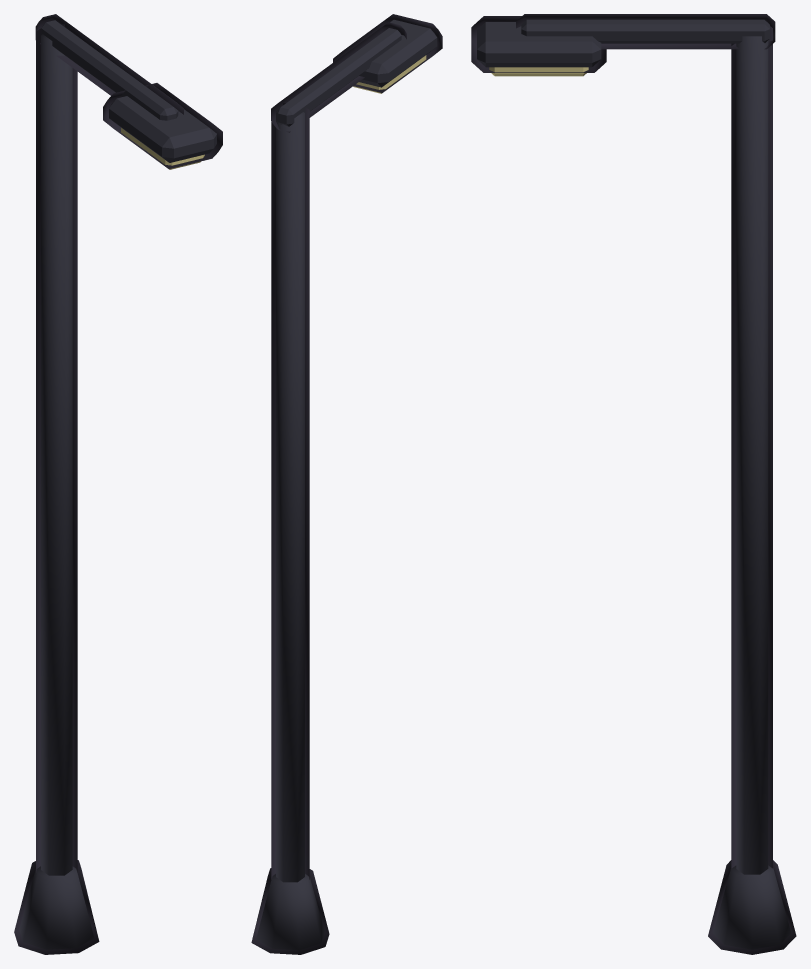
Rendered from street_lamp.glb.
3 views of the same model, side by side, from view 1: azimuth 30°, elevation 25°; view 2: azimuth 150°, elevation 25°; view 3: azimuth 270°, elevation 25° (orthographic). The views are drawn at different scales.
Parts seen in each view (by area): view 1: street_lamp; view 2: street_lamp; view 3: street_lamp.
Part boxes in pixels (x1,y1,x2,y2): street_lamp: (14,14,222,954); street_lamp: (251,14,442,954); street_lamp: (471,14,796,954).
Bounding box in the file's own units: 0.4991 × 5.71 × 1.83.
